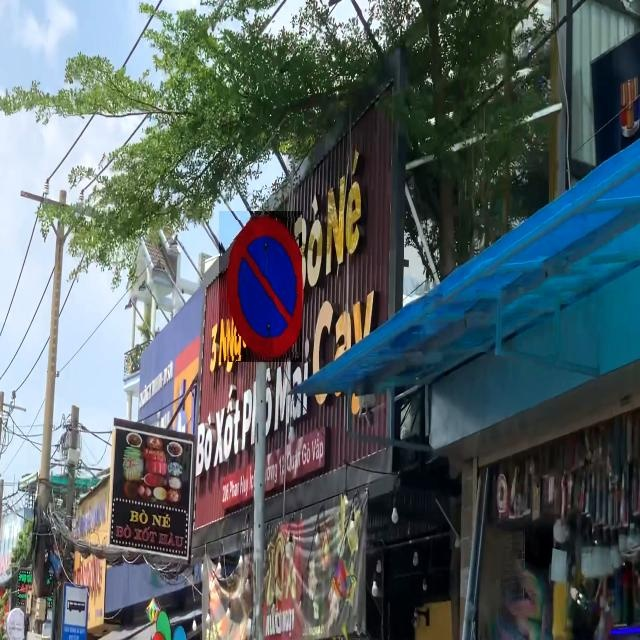bien_cam: (219, 211, 302, 362)
